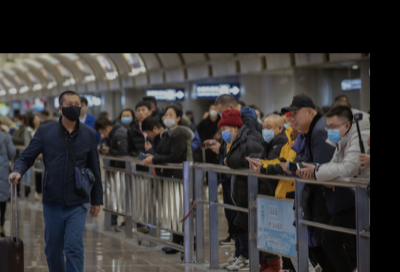mask_weared_incorrect: (164, 110, 177, 127)
with_mask: (325, 120, 345, 143), (62, 99, 82, 120), (262, 122, 276, 142), (221, 125, 234, 142), (121, 112, 133, 125), (209, 106, 218, 117)
without_mask: (291, 109, 310, 130), (136, 106, 149, 120), (145, 129, 158, 139), (100, 129, 111, 138)
